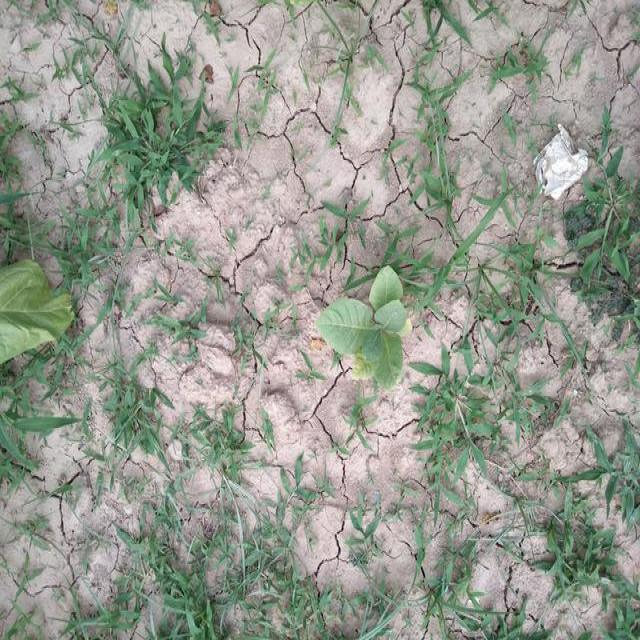crop: (318, 275, 412, 393), (0, 263, 79, 371)
